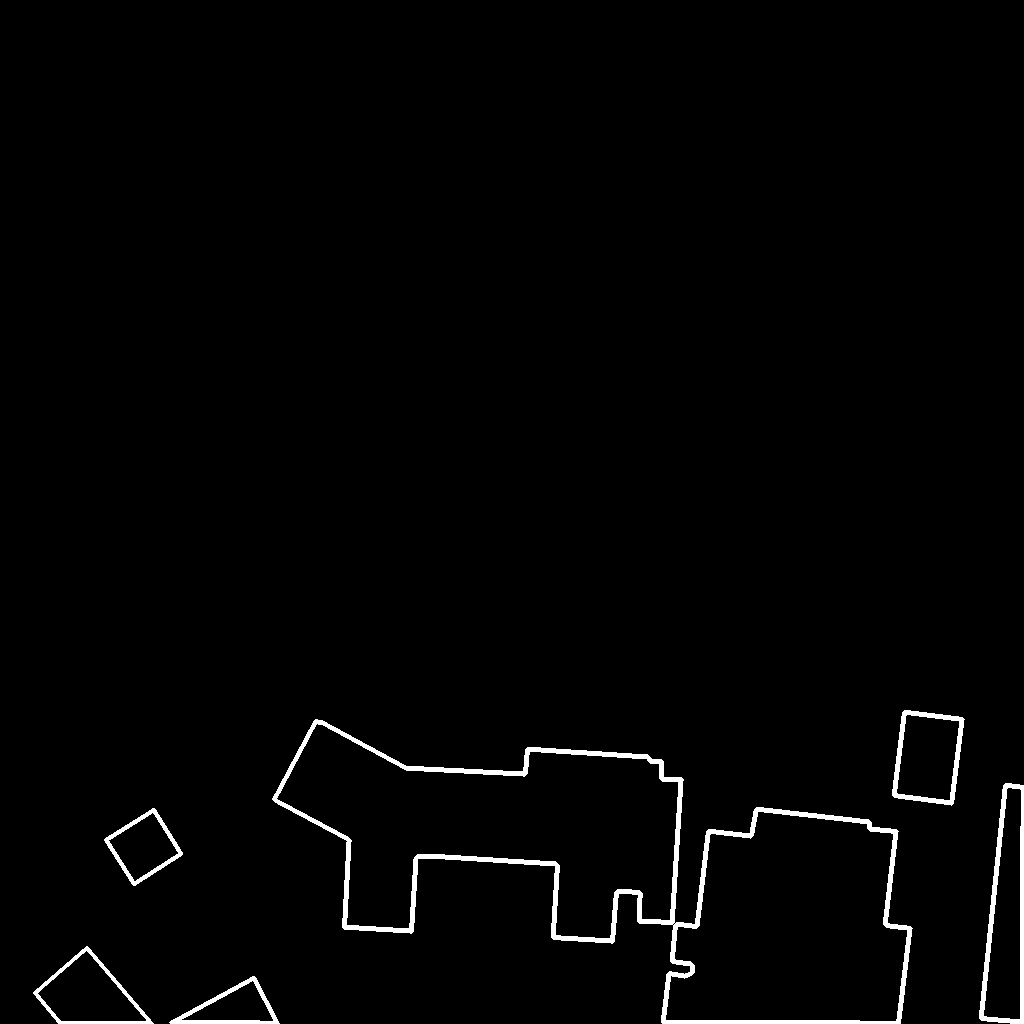building: (274, 720, 682, 942), (663, 809, 911, 1024), (35, 948, 279, 1024), (981, 785, 1024, 1023), (894, 712, 963, 804), (106, 810, 182, 885)
